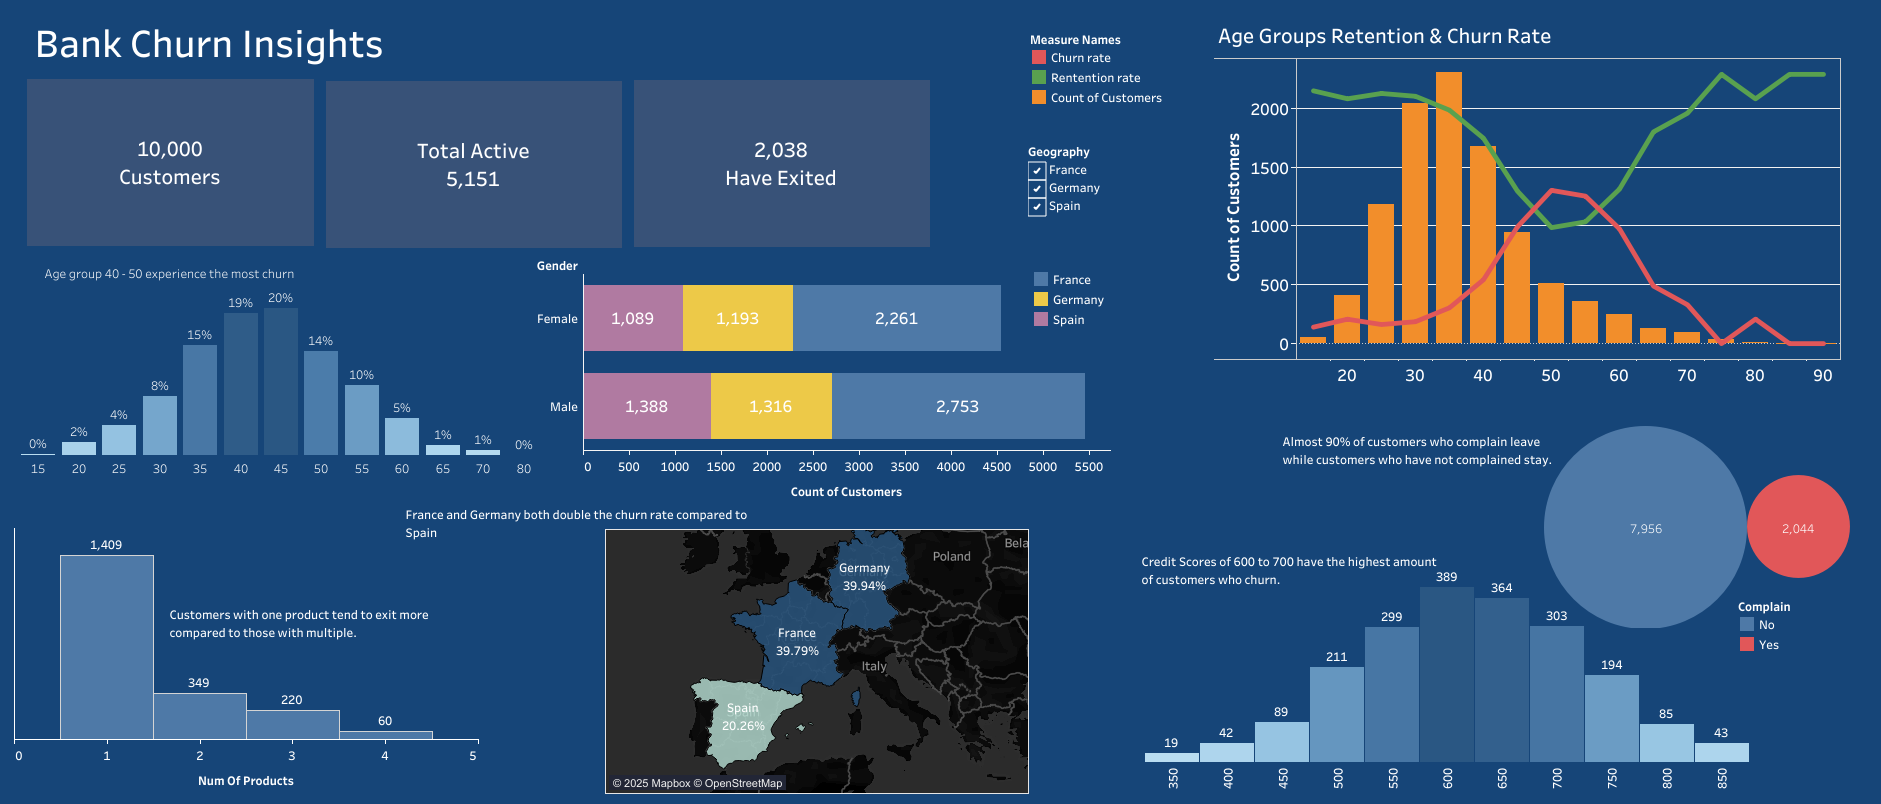

The dashboard page shown, as its layout file describes it:
{"tool":"tableau","page":{"name":"Main Dashboard","canvas":[1000,1000],"units":"permille","ordinal":2},"visuals":[{"type":"text","box":[16.9,18.2,286.7,66.7]},{"type":"worksheet","title":"Age retention/churn","mark":"Line","rows":["CustomerId"],"cols":["Age (bin)"],"box":[645.1,18.2,333.1,463]},{"type":"legend","title":"Age retention/churn","param":"[federated.185j4eh0inlhx41d2fpev1vz3e4p].[:Measure Names]","box":[546.8,35.1,100.8,144.2]},{"type":"worksheet","title":"Title card customers","mark":"Automatic","box":[14.5,98.2,152.1,206.1]},{"type":"worksheet","title":"Title card exit customers (2)","mark":"Automatic","box":[336.8,99.4,156.9,206.1]},{"type":"worksheet","title":"Title card active customers","mark":"Automatic","box":[173.2,100.6,156.9,206.1]},{"type":"filter","title":"Age retention/churn","param":"[federated.185j4eh0inlhx41d2fpev1vz3e4p].[none:Geography:nk]","box":[546.2,174.6,68.8,155.2]},{"type":"worksheet","title":"Gender per country","mark":"Bar","rows":["Gender"],"cols":["CustomerId"],"box":[267.4,315.2,322.3,315.2]},{"type":"text","box":[22.3,320,192.5,36.4]},{"type":"legend","title":"Gender per country","param":"[federated.185j4eh0inlhx41d2fpev1vz3e4p].[none:Geography:nk]","box":[548,334.6,63.4,133.3]},{"type":"worksheet","title":"Age Of Churned","mark":"Automatic","rows":["Exited"],"cols":["Age (bin)"],"box":[9.7,351.5,279.4,241.2]},{"type":"text","box":[680.1,510.3,151.5,95.8]},{"type":"worksheet","title":"Complaints and exit","mark":"Circle","box":[811.7,528.5,179.2,252.1]},{"type":"text","box":[214.2,613.3,199.8,72.7]},{"type":"worksheet","title":"Number of products","mark":"Bar","rows":["Exited"],"cols":["NumOfProducts"],"box":[7.2,655.8,246.8,333.3]},{"type":"worksheet","title":"Exit map","mark":"Automatic","box":[321.7,657,266.1,338.2]},{"type":"text","box":[605.3,663,160.5,89.7]},{"type":"worksheet","title":"Credit score","mark":"Automatic","rows":["Exited"],"cols":["Credit Score (bin)"],"box":[608.3,695.8,321.1,300.6]},{"type":"text","box":[88.7,733.3,170.8,80]},{"type":"legend","title":"Complaints and exit","param":"[federated.185j4eh0inlhx41d2fpev1vz3e4p].[none:Complain:nk]","box":[922.8,739.4,42.2,143]}]}

Visuals, with their boxes on the dashboard's canvas, which has no fixed pixel size, in thousandths of its width and height (x1, y1, x2, y2). These are canvas units, not pixel positions in the 1881x804 screenshot, which may show the page scaled, cropped or inside an application window:
text: x1=17, y1=18, x2=304, y2=85
"Age retention/churn" worksheet (Line marks): x1=645, y1=18, x2=978, y2=481
"Age retention/churn" legend: x1=547, y1=35, x2=648, y2=179
"Title card customers" worksheet: x1=14, y1=98, x2=167, y2=304
"Title card exit customers (2)" worksheet: x1=337, y1=99, x2=494, y2=306
"Title card active customers" worksheet: x1=173, y1=101, x2=330, y2=307
"Age retention/churn" filter: x1=546, y1=175, x2=615, y2=330
"Gender per country" worksheet (Bar marks): x1=267, y1=315, x2=590, y2=630
text: x1=22, y1=320, x2=215, y2=356
"Gender per country" legend: x1=548, y1=335, x2=611, y2=468
"Age Of Churned" worksheet: x1=10, y1=352, x2=289, y2=593
text: x1=680, y1=510, x2=832, y2=606
"Complaints and exit" worksheet (Circle marks): x1=812, y1=528, x2=991, y2=781
text: x1=214, y1=613, x2=414, y2=686
"Number of products" worksheet (Bar marks): x1=7, y1=656, x2=254, y2=989
"Exit map" worksheet: x1=322, y1=657, x2=588, y2=995
text: x1=605, y1=663, x2=766, y2=753
"Credit score" worksheet: x1=608, y1=696, x2=929, y2=996
text: x1=89, y1=733, x2=260, y2=813
"Complaints and exit" legend: x1=923, y1=739, x2=965, y2=882
